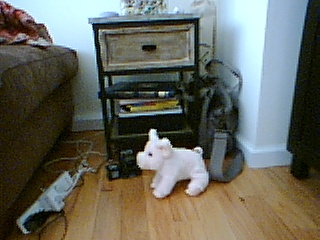piggy: (134, 127, 210, 199)
